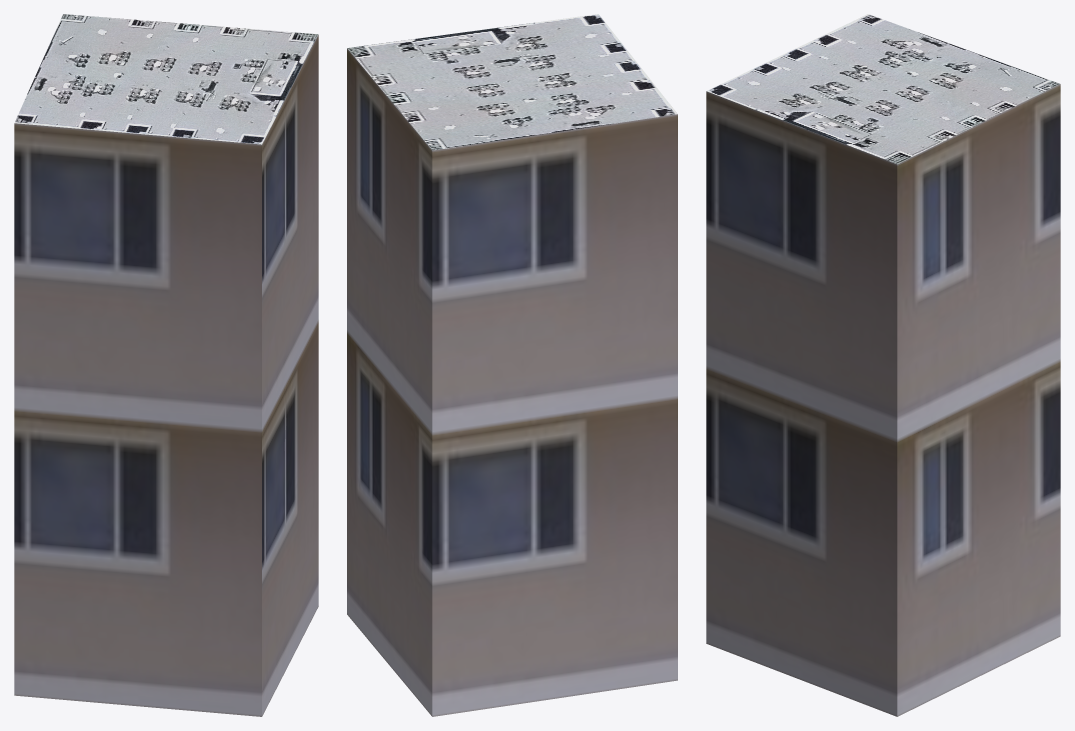
File: ResTex__2782.fbx
3 views of the same model, side by side, from view 1: azimuth 30°, elevation 25°; view 2: azimuth 150°, elevation 25°; view 3: azimuth 270°, elevation 25° (orthographic). The views are drawn at different scales.
Parts seen in each view (by area): view 1: CityEngineMaterial_21_m, CityEngineMaterial_8_m; view 2: CityEngineMaterial_21_m, CityEngineMaterial_8_m; view 3: CityEngineMaterial_21_m, CityEngineMaterial_8_m.
Part boxes in pixels (left/top/right/bottom): CityEngineMaterial_21_m: left=14, top=34, right=318, bottom=716; CityEngineMaterial_8_m: left=14, top=14, right=318, bottom=144; CityEngineMaterial_21_m: left=347, top=48, right=677, bottom=716; CityEngineMaterial_8_m: left=347, top=14, right=677, bottom=150; CityEngineMaterial_21_m: left=706, top=84, right=1060, bottom=716; CityEngineMaterial_8_m: left=706, top=14, right=1059, bottom=164.
Bounding box in the file's own units: 3.5 × 6 × 3.49.
Materials: 2 (2 with a texture image).
